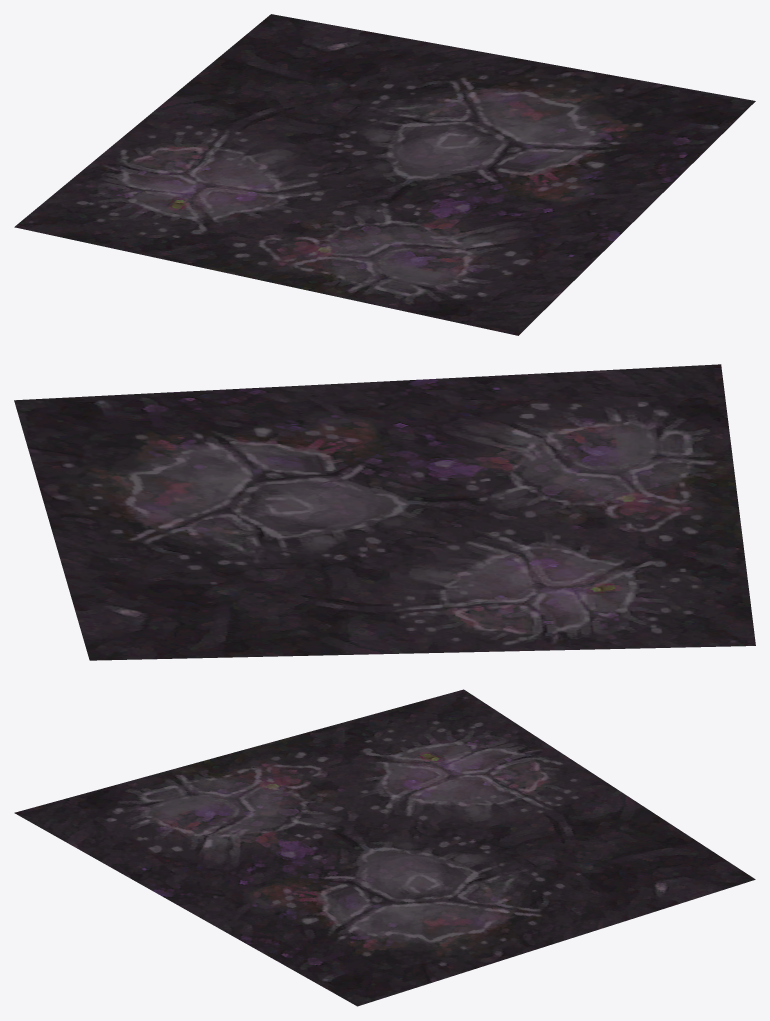
File: cave_floor_mushrooms_25.fbx
3 renders of one model, top to bottom at view 1: azimuth 30°, elevation 25°; view 2: azimuth 150°, elevation 25°; view 3: azimuth 270°, elevation 25°, orthographic. The views are drawn at different scales.
Parts seen in each view (by area): view 1: cave_tileset/Floormushrooms_04_mat; view 2: cave_tileset/Floormushrooms_04_mat; view 3: cave_tileset/Floormushrooms_04_mat.
Boxes of the visible parts, bbox=[...] form: cave_tileset/Floormushrooms_04_mat: bbox=[14, 14, 755, 335]; cave_tileset/Floormushrooms_04_mat: bbox=[14, 364, 755, 660]; cave_tileset/Floormushrooms_04_mat: bbox=[14, 689, 755, 1006].
Bounding box in the file's own units: 3.91 × 0 × 3.87.
